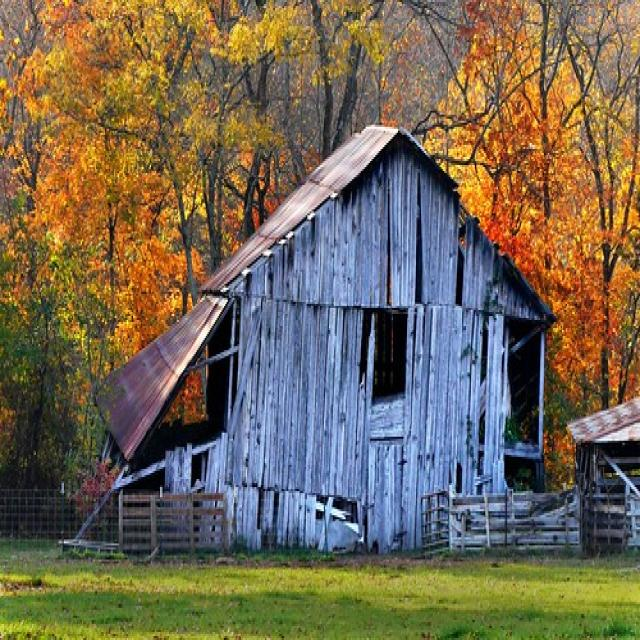building: (62, 108, 555, 564)
